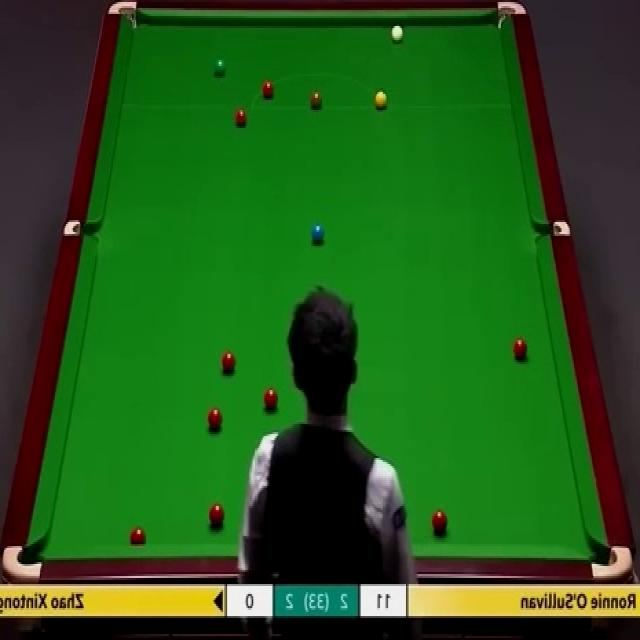blue-ball: (311, 222, 325, 245)
brown-ball: (310, 88, 324, 111)
green-ball: (213, 58, 228, 78)
red-ball: (220, 349, 237, 378), (512, 336, 529, 363), (209, 503, 226, 529), (208, 405, 223, 430), (264, 387, 279, 412), (432, 508, 446, 534), (233, 106, 248, 129), (132, 526, 146, 546), (262, 80, 275, 98)
white-ball: (390, 22, 404, 44)
yellow-ball: (375, 89, 388, 109)
